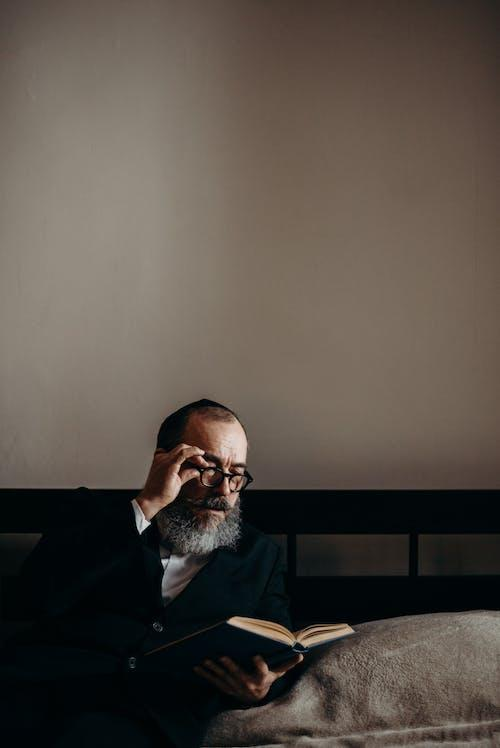eyeglasses: (174, 450, 270, 496)
